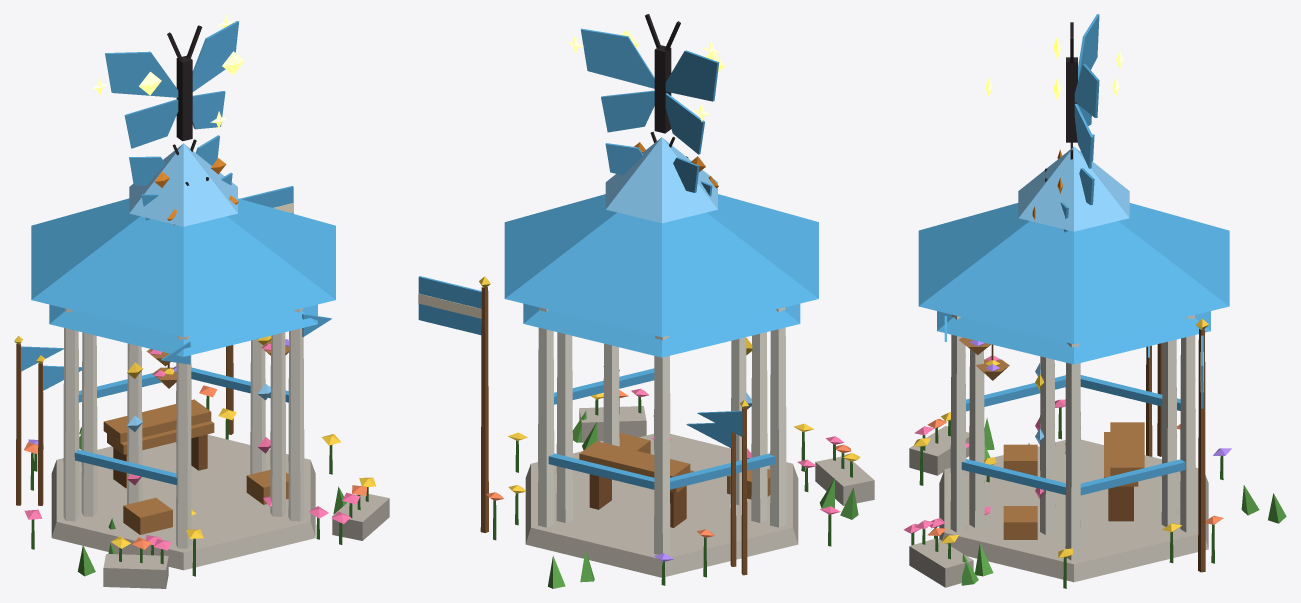
File: butterfly-garden-pavilion.glb
3 views of the same model, side by side, from view 1: azimuth 30°, elevation 25°; view 2: azimuth 150°, elevation 25°; view 3: azimuth 270°, elevation 25° (orthographic). The views are drawn at different scales.
Visible parts, largest first — view 1: lv3, lv2, lv1; view 2: lv3, lv2, lv1; view 3: lv3, lv2, lv1.
Part boxes in pixels (box(x1,y1,x2,y2)): lv3: box(14, 14, 389, 588); lv2: box(24, 135, 347, 555); lv1: box(107, 172, 288, 534); lv3: box(418, 14, 874, 588); lv2: box(508, 131, 834, 582); lv1: box(589, 156, 770, 527); lv3: box(903, 14, 1286, 588); lv2: box(930, 134, 1259, 576); lv1: box(984, 168, 1138, 539).
Size of the model in its own units: 1.86 by 2.53 by 1.79.
